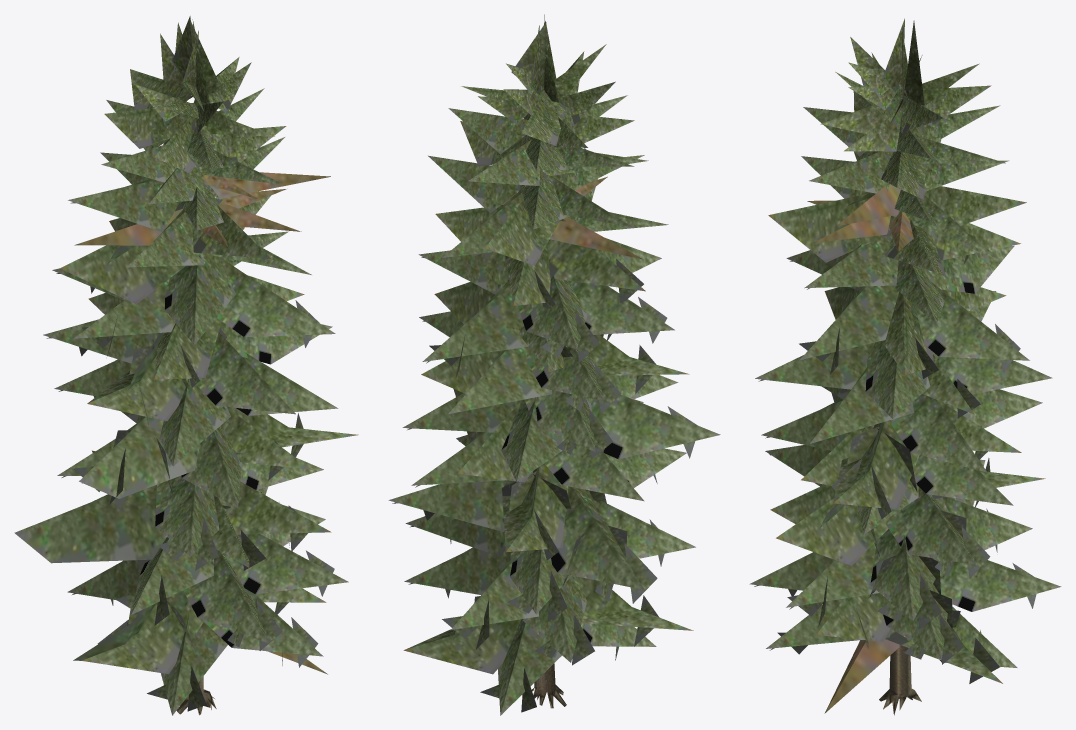
Rendered from temperate-pine-a-map.glb.
3 renders of one model, left to right at view 1: azimuth 30°, elevation 25°; view 2: azimuth 150°, elevation 25°; view 3: azimuth 270°, elevation 25°, orthographic.
Visible parts, largest first — view 1: pine_a_LOD0; view 2: pine_a_LOD0; view 3: pine_a_LOD0.
Boxes of the visible parts, <box> form: pine_a_LOD0: <box>14,16,358,715</box>; pine_a_LOD0: <box>388,14,720,715</box>; pine_a_LOD0: <box>749,18,1061,715</box>.
Size of the model in its own units: 19.48 by 45.9 by 18.66.
1 material, 1 textured.
